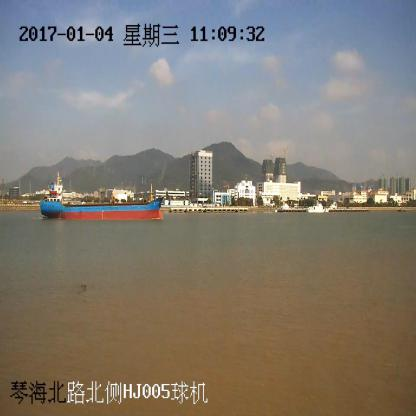Bulk Carrier: (41, 174, 164, 222)
